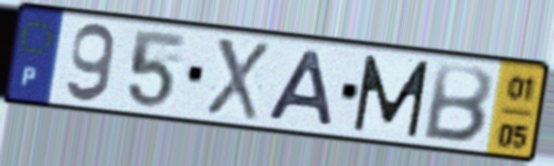5: (126, 27, 190, 110)
9: (63, 20, 118, 104)
A: (264, 46, 337, 129)
B: (418, 60, 496, 146)
M: (350, 51, 433, 140)
X: (202, 34, 271, 124)
